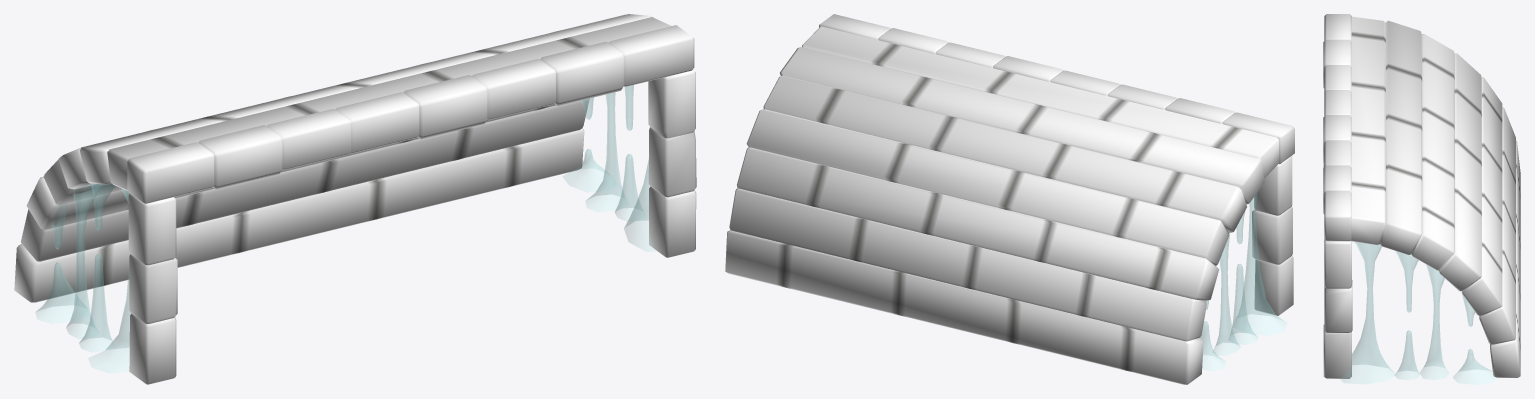
File: arco polar.fbx
3 views of the same model, side by side, from view 1: azimuth 30°, elevation 25°; view 2: azimuth 150°, elevation 25°; view 3: azimuth 270°, elevation 25° (orthographic). The views are drawn at different scales.
Parts seen in each view (by area): view 1: trasero, Box006, parante polar (×2), carambano (×8); view 2: trasero, Box006, parante polar, carambano (×4); view 3: trasero, Box006, carambano (×4), parante polar.
Boxes of the visible parts, bbox=[...] form: trasero: bbox=[14, 14, 671, 302]; Box006: bbox=[127, 25, 694, 203]; parante polar (×2): bbox=[128, 70, 696, 384]; carambano (×8): bbox=[35, 85, 655, 373]; trasero: bbox=[725, 26, 1278, 384]; Box006: bbox=[819, 14, 1294, 164]; parante polar: bbox=[1252, 156, 1293, 315]; carambano (×4): bbox=[1200, 192, 1286, 371]; trasero: bbox=[1350, 16, 1520, 377]; Box006: bbox=[1323, 14, 1351, 241]; carambano (×4): bbox=[1340, 242, 1496, 384]; parante polar: bbox=[1323, 239, 1352, 378].
Size of the model in its own units: 778 by 274 by 301.
2 materials, 1 textured.
